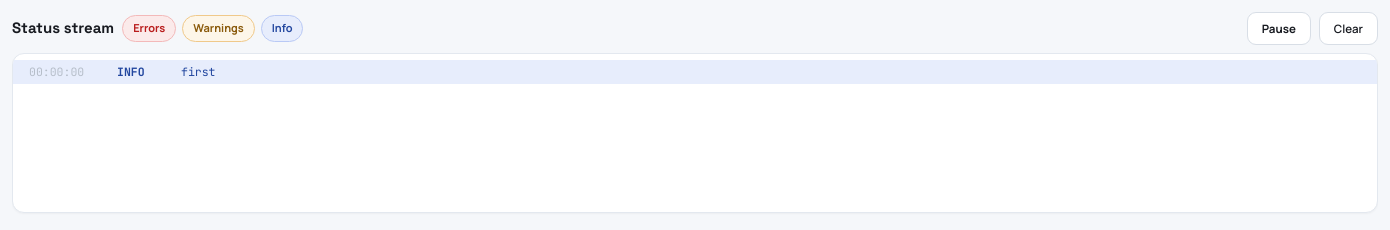
Test case: StatusStream › Clear always empties the on-screen list, even while paused
Click the button "Pause": (1279, 29) [1247,12,1311,45]
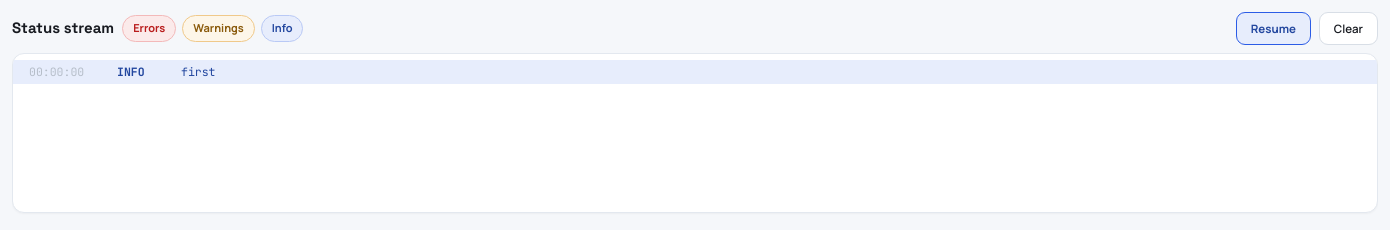
Click the button "Clear": (1348, 29) [1319,12,1378,45]
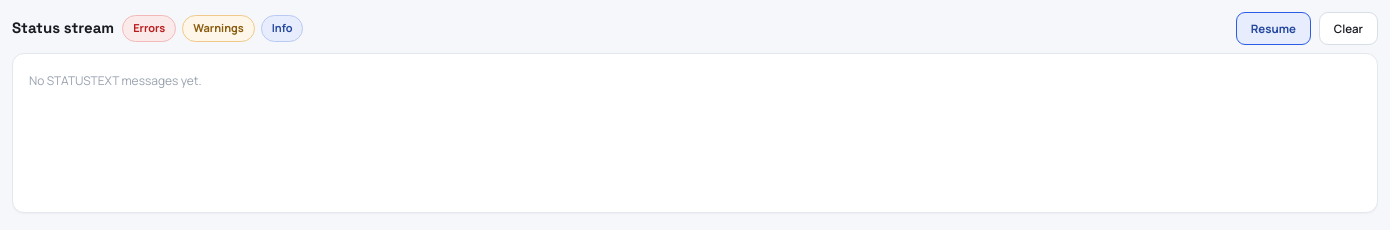
Expected: the text "No STATUSTEXT messages yet." is shown, [29,72,202,89]
